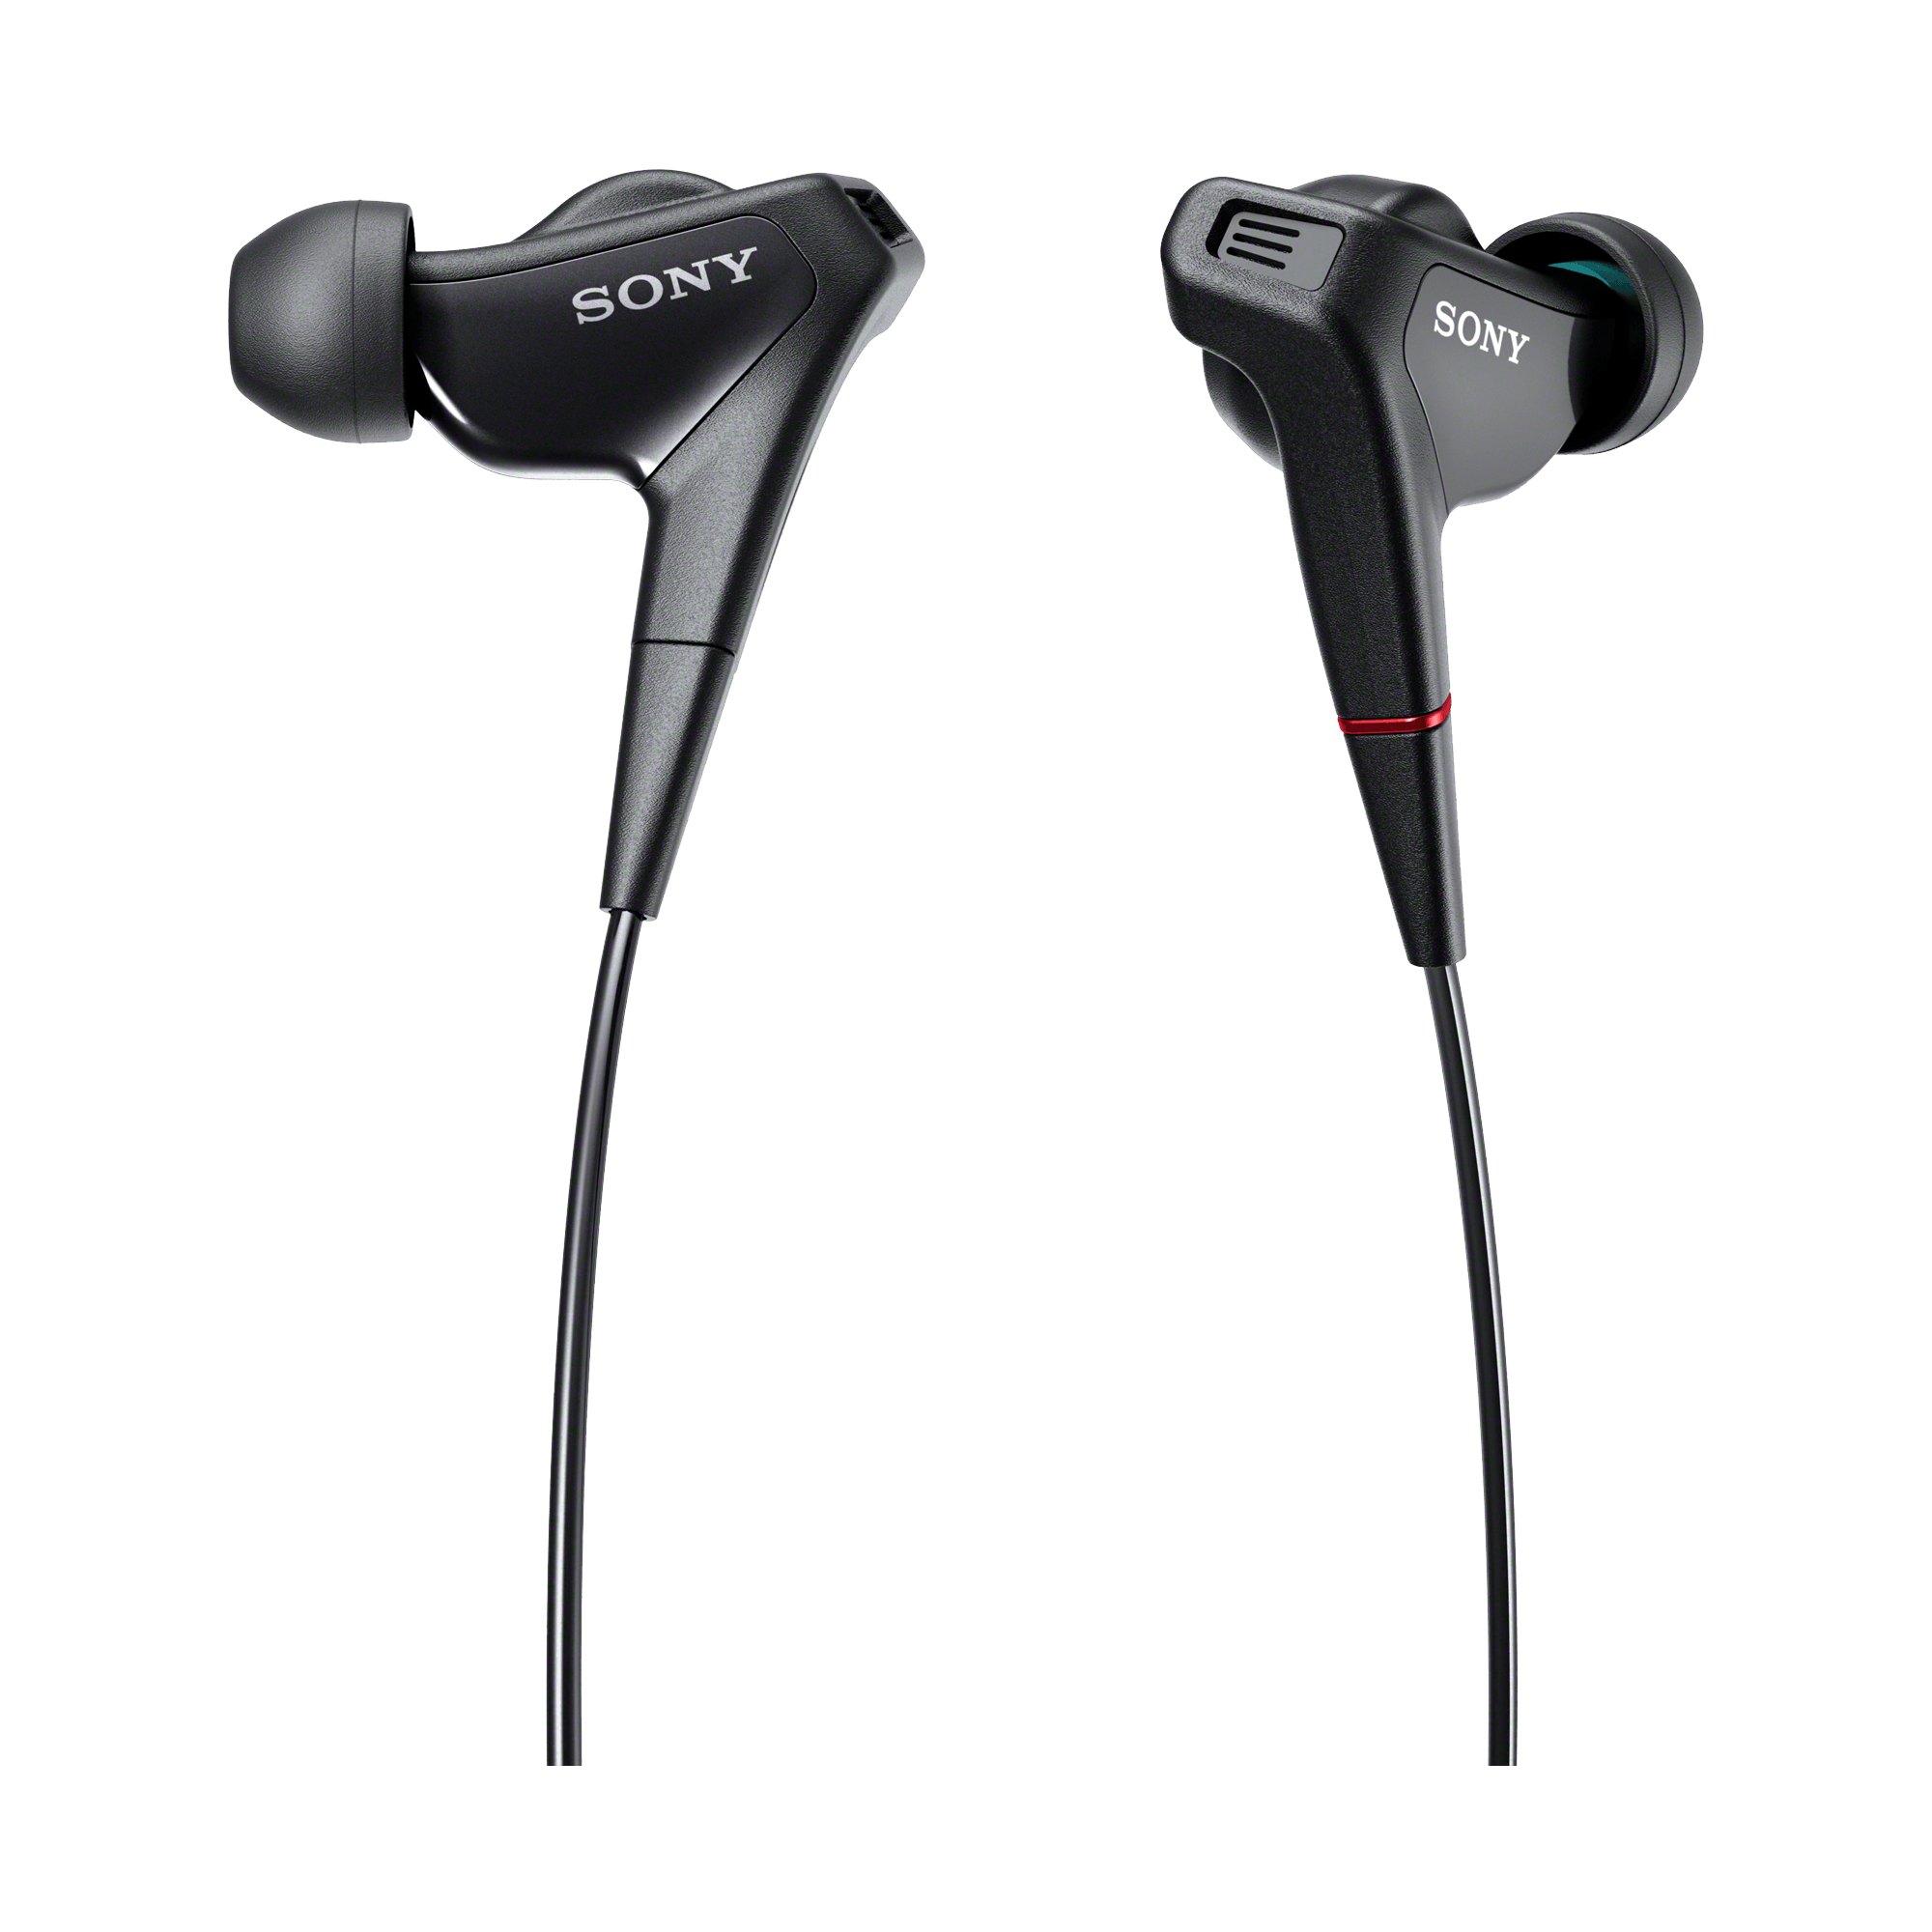headphone: (226, 122, 1706, 1601)
